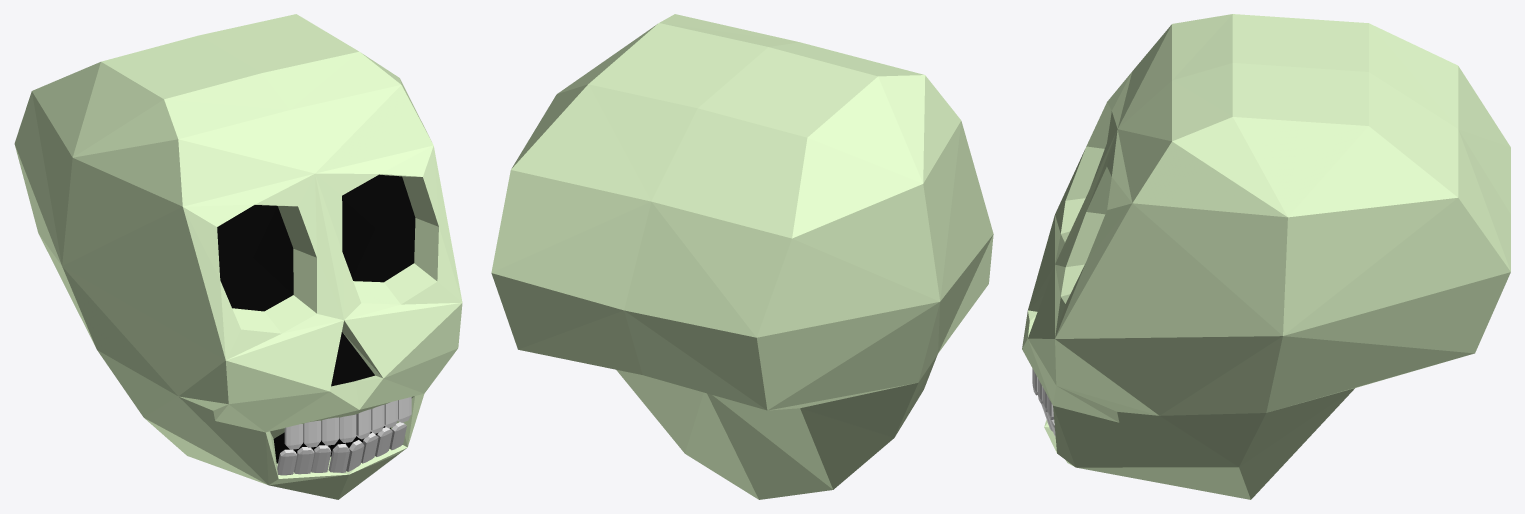
File: head.dae
3 views of the same model, side by side, from view 1: azimuth 30°, elevation 25°; view 2: azimuth 150°, elevation 25°; view 3: azimuth 270°, elevation 25° (orthographic). The views are drawn at different scales.
Visible parts, largest first — view 1: Cube, Cube.011; view 2: Cube; view 3: Cube.
Boxes of the visible parts, x1,y1,x2,y2 form: Cube: [14, 14, 462, 499]; Cube.011: [328, 443, 349, 472]; Cube: [491, 14, 993, 499]; Cube: [1022, 14, 1510, 499].
Bounding box in the file's own units: 2.58 × 2.87 × 2.78.
